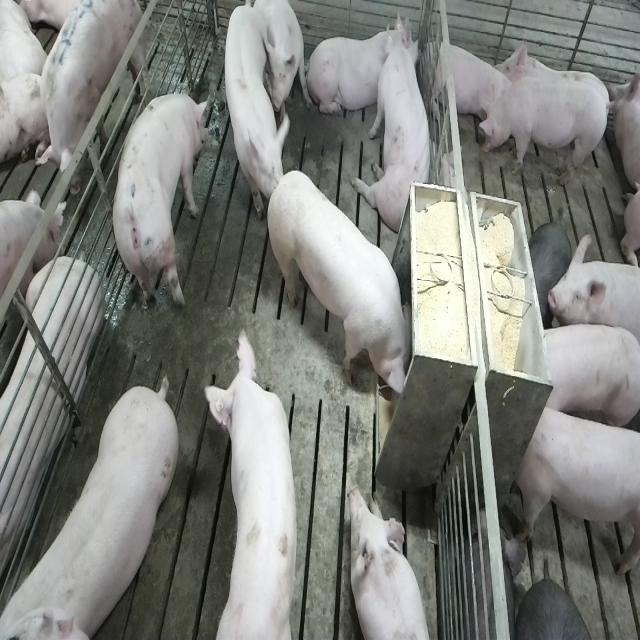Feeding: (271, 167, 421, 401)
Lateral_lying: (0, 242, 100, 588)
Sitting: (356, 12, 436, 234), (235, 2, 305, 130)
Standing: (6, 372, 183, 635), (206, 326, 303, 639), (513, 398, 638, 578), (30, 0, 144, 195), (113, 90, 207, 321), (479, 80, 612, 188), (221, 9, 281, 230), (549, 234, 640, 366), (538, 322, 638, 428)
Sternal_lying: (348, 485, 432, 640), (310, 19, 413, 124), (428, 34, 509, 132)
